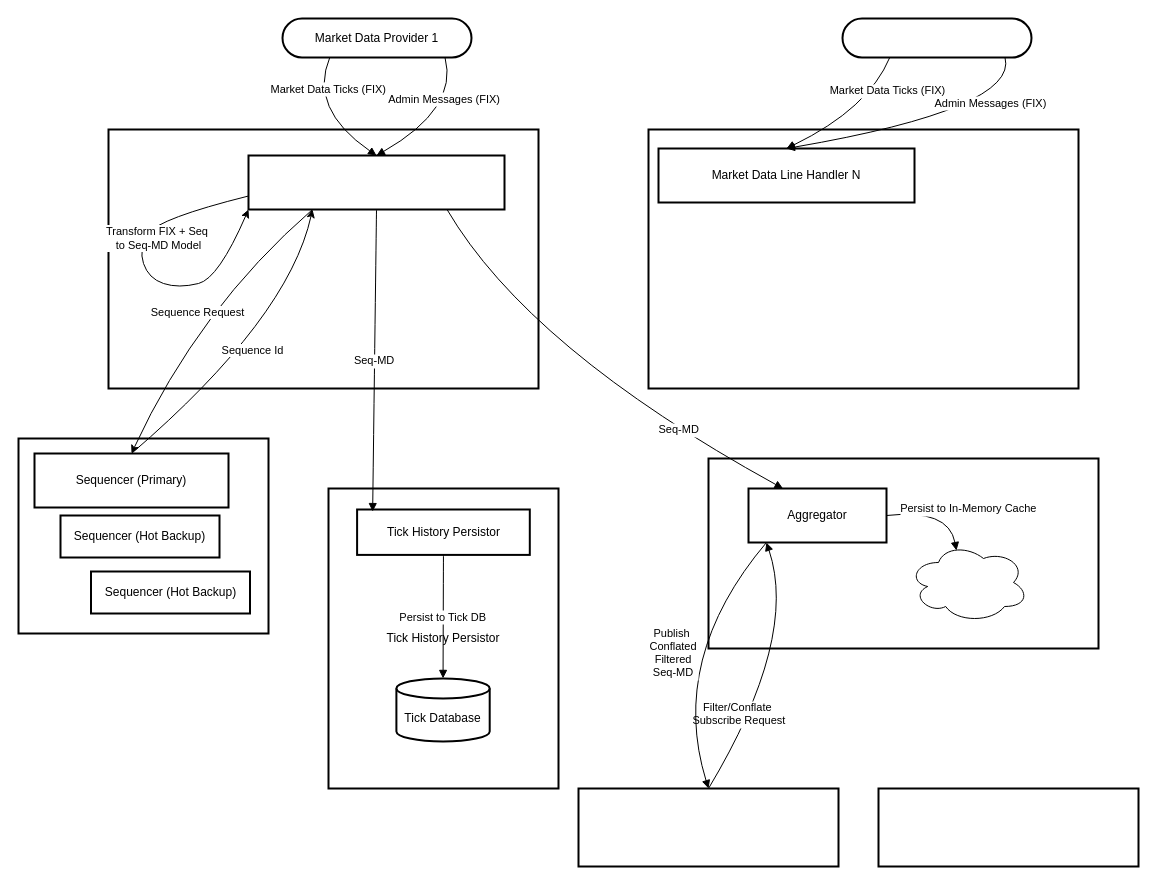
Some shapes in this 1156 by 884 pixel diagram are drawn without their labels. The shapes that lost their labels are listed below. From the top down, each one's box as (x1, y1, x2, y2) in pixels, then its label:
(841, 17, 1032, 58): Market Data Provider N
(247, 154, 505, 210): Market Data Line Handler 1
(908, 542, 1028, 622): In-Memory Cache
(577, 787, 839, 867): Sequenced-MD RFQ/RFS Client 1
(877, 787, 1139, 867): Sequenced-MD RFQ/RFS client N
